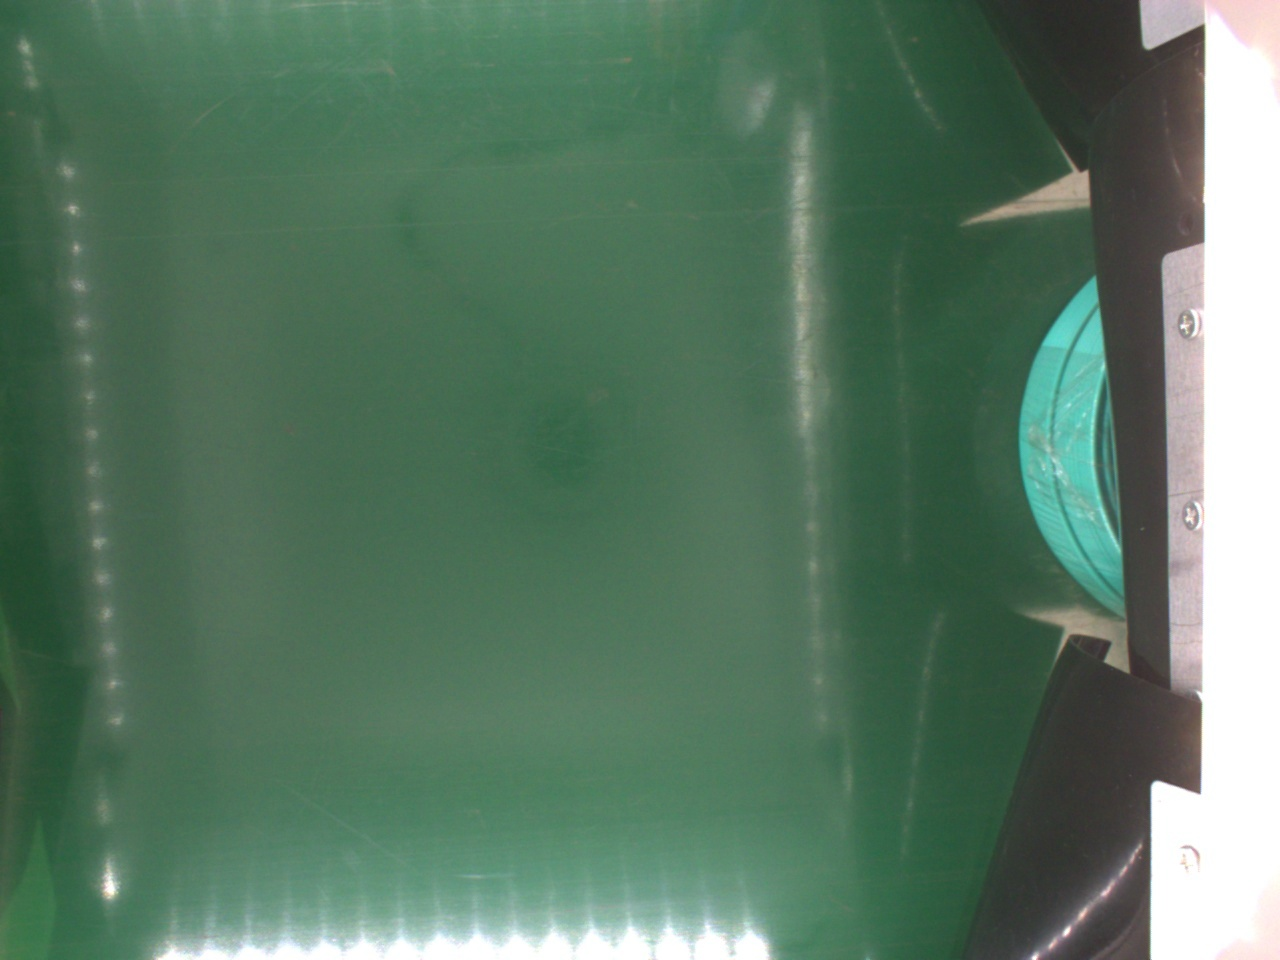green: (1020, 281, 1126, 607)
